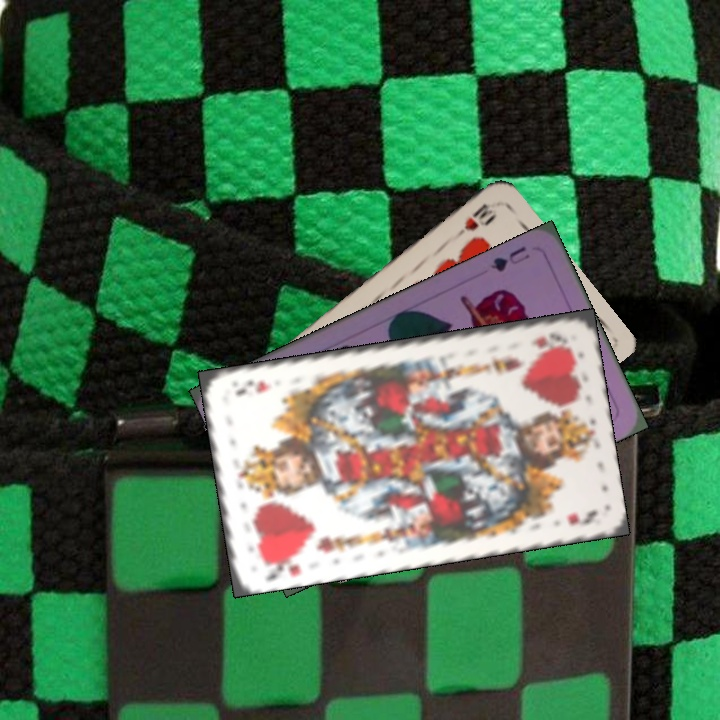GU: (486, 242, 533, 275)
H10: (449, 199, 497, 242)
HK: (260, 551, 304, 584), (527, 329, 570, 351)
